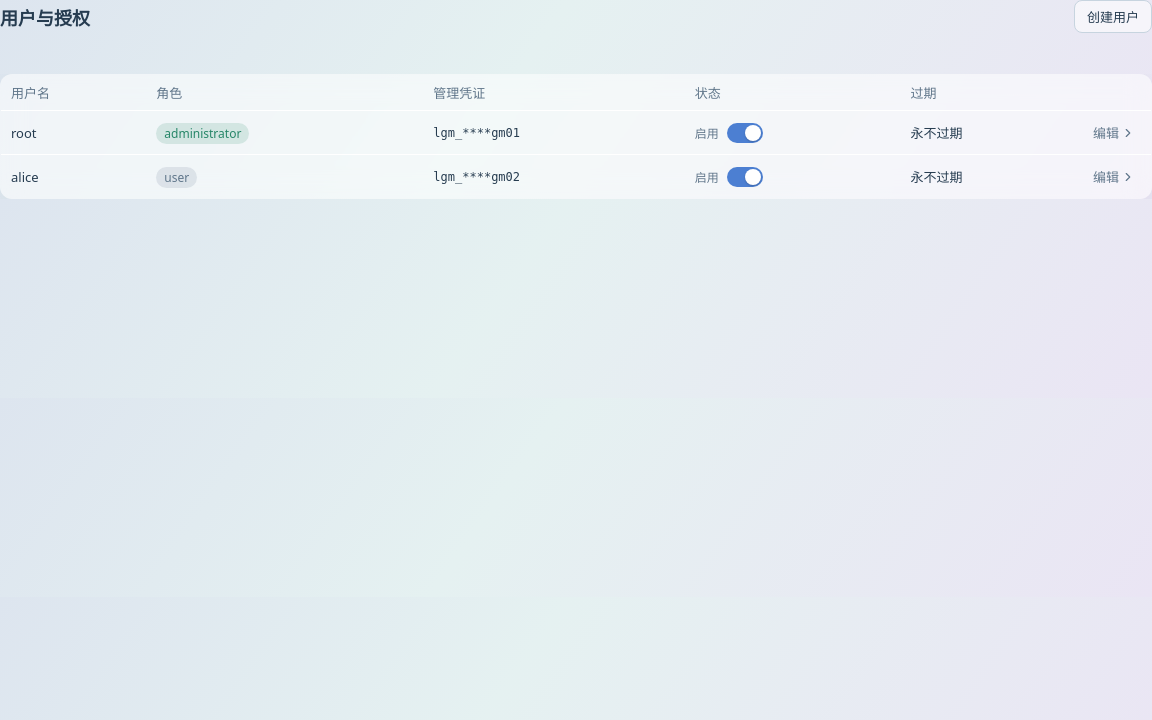
Test: UsersPanel（表格列表 + 编辑整页，UI 2.0） › surfaces reset errors on the edit page without a dead placeholder dialog
Click the row "alice user lgm_****gm02 启用 永不过期 编辑".
click(576, 176)  # box top-left (0, 154), bottom-right (1151, 198)
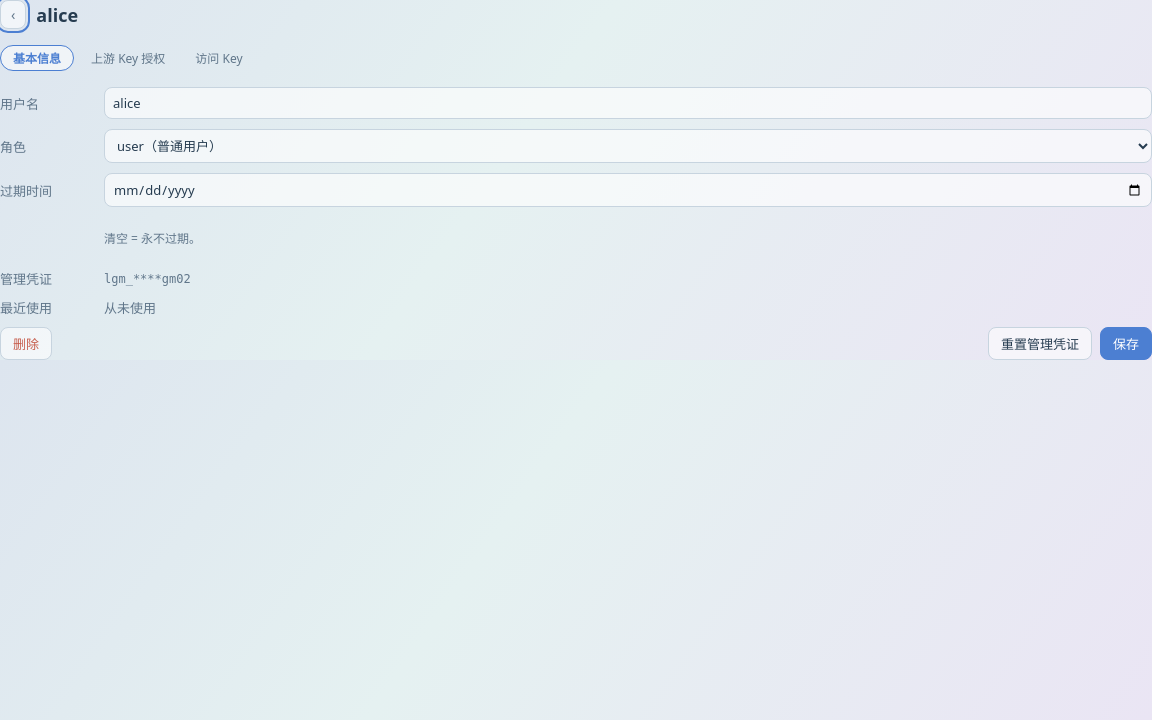
Click the button "重置管理凭证".
click(1040, 344)  # box top-left (988, 327), bottom-right (1092, 360)
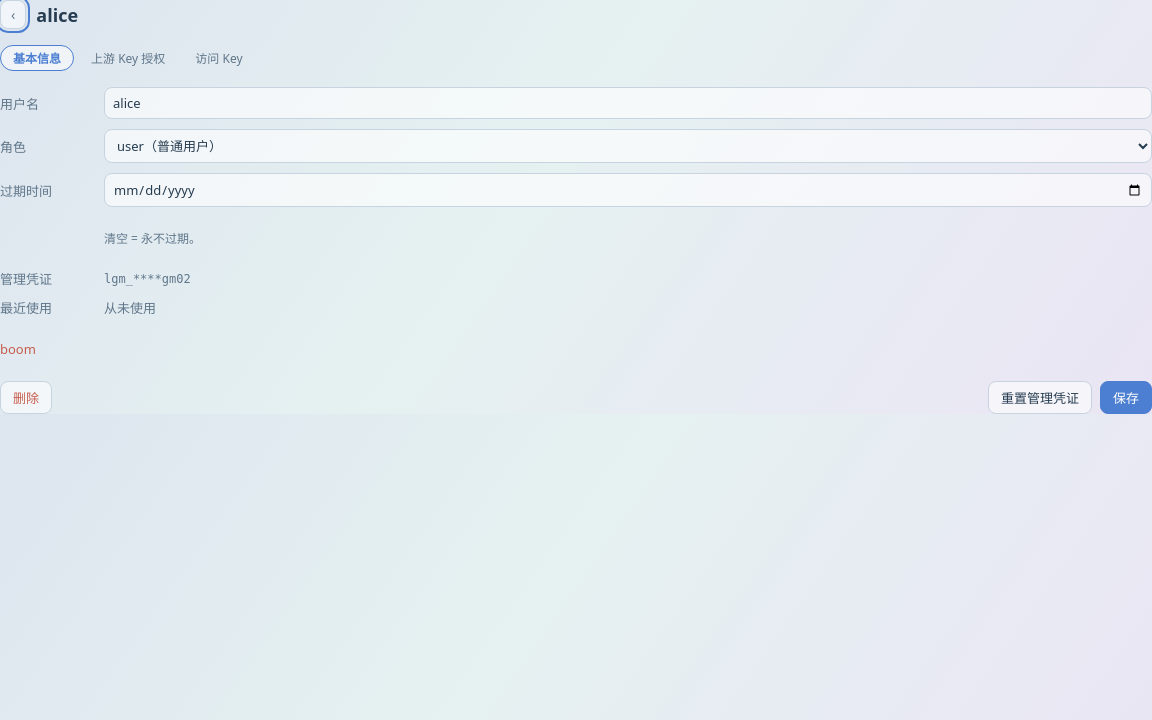
Check: the element named "alice" is shown, box top-left (0, 0), bottom-right (1151, 414)
Check: the message reads "boom", box top-left (0, 340), bottom-right (36, 358)
